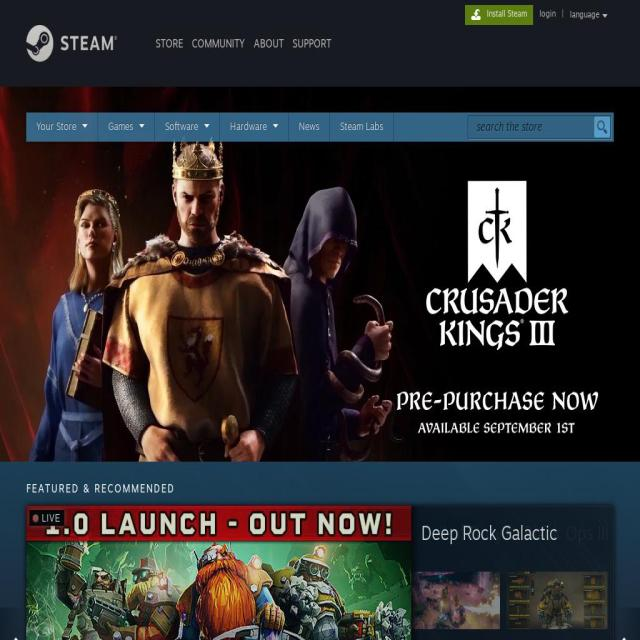button: (26, 19, 122, 67), (26, 110, 98, 142), (155, 112, 220, 142), (191, 29, 247, 63), (220, 115, 285, 142), (99, 110, 154, 141), (328, 114, 393, 140), (286, 29, 338, 61), (465, 4, 534, 26), (150, 29, 188, 64), (248, 29, 287, 63), (562, 4, 612, 27), (286, 114, 328, 140), (534, 4, 562, 26), (594, 117, 611, 137)
field: (470, 115, 613, 142)
heading: (421, 525, 561, 543), (25, 482, 176, 495), (58, 31, 119, 57)
image: (4, 148, 636, 456), (24, 509, 412, 640), (502, 570, 608, 632), (414, 570, 501, 632), (26, 21, 54, 64)
label: (476, 120, 545, 136), (194, 36, 245, 52), (293, 36, 333, 52), (339, 121, 386, 134), (36, 120, 78, 134), (228, 120, 269, 134), (253, 36, 284, 50), (166, 121, 200, 133), (106, 121, 135, 134), (156, 38, 184, 51), (568, 12, 608, 20), (297, 121, 321, 133), (538, 10, 558, 20), (596, 121, 608, 133)
text: (420, 282, 575, 353), (388, 389, 600, 414), (410, 416, 584, 441)
